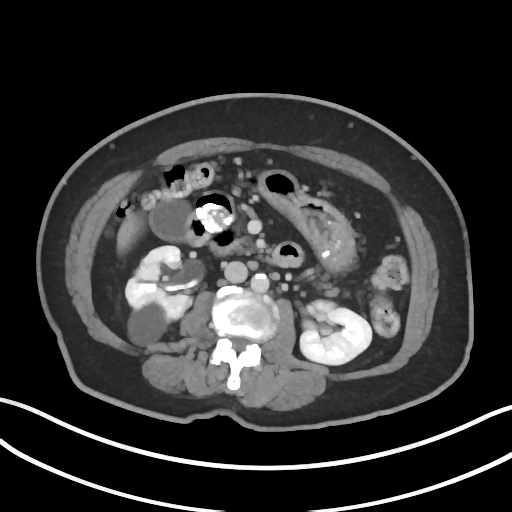Lesion: (127, 301, 168, 347)
